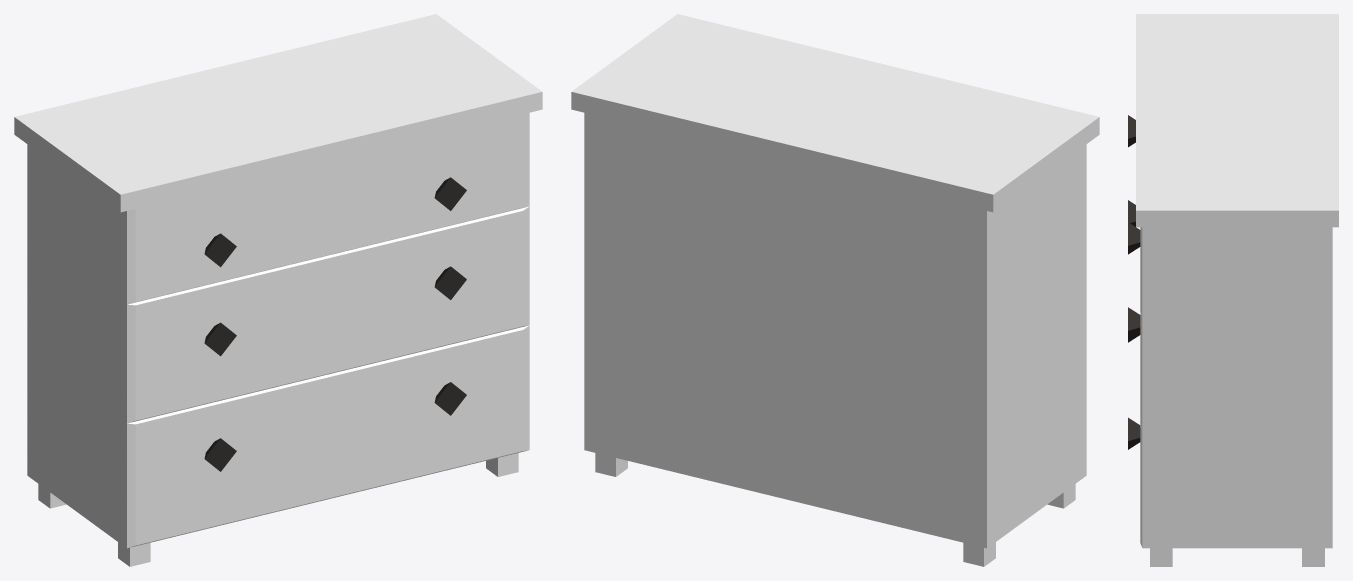
The model's file is Drawer_1A.fbx.
The picture shows the model from 3 angles, left to right: view 1: azimuth 30°, elevation 25°; view 2: azimuth 150°, elevation 25°; view 3: azimuth 270°, elevation 25°; orthographic projection. The views are drawn at different scales.
Parts seen in each view (by area): view 1: polySurface2326; view 2: polySurface2326; view 3: polySurface2326.
Part boxes in pixels (box(x1,y1,x2,y2)): polySurface2326: box(14, 14, 542, 566); polySurface2326: box(571, 14, 1099, 566); polySurface2326: box(1128, 14, 1338, 566).
Bounding box in the file's own units: 1.83 × 1.58 × 0.8313.
Materials: 1 (1 with a texture image).
